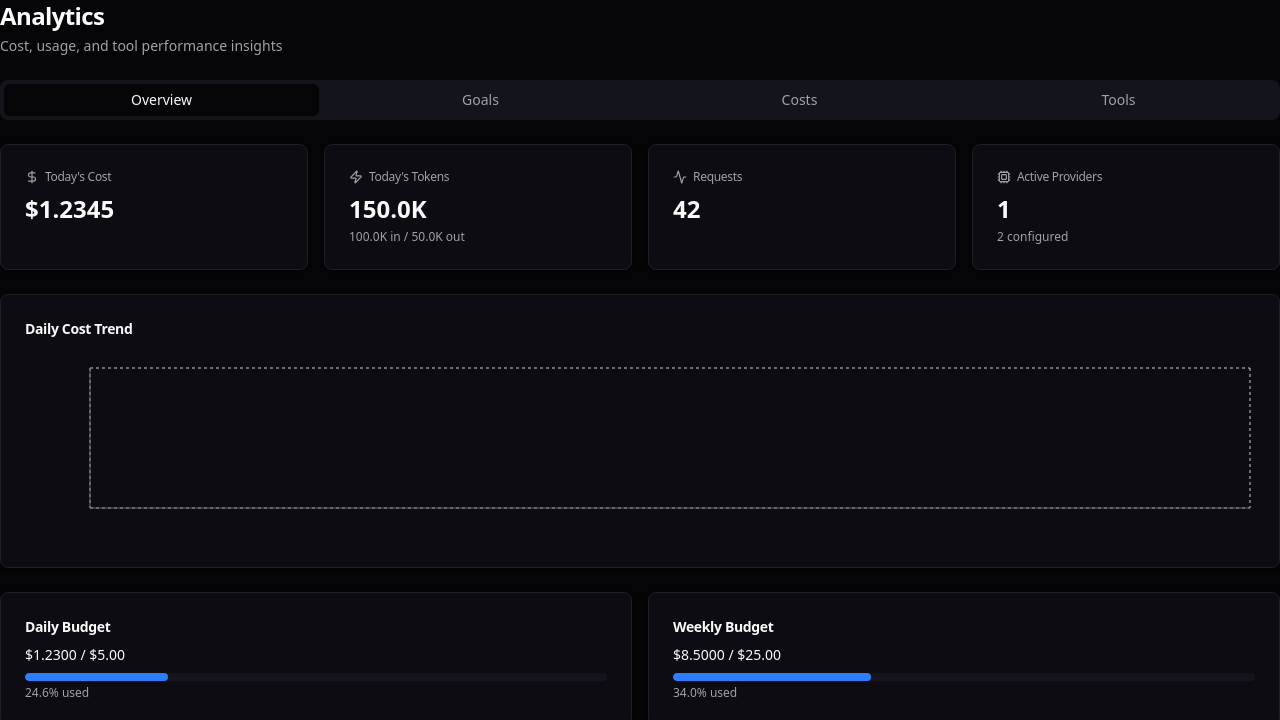
AnalyticsPage › shows empty state when no tool data
Step 1. Click the button "Tools" → (1118, 100), box top-left (961, 84), bottom-right (1276, 116)
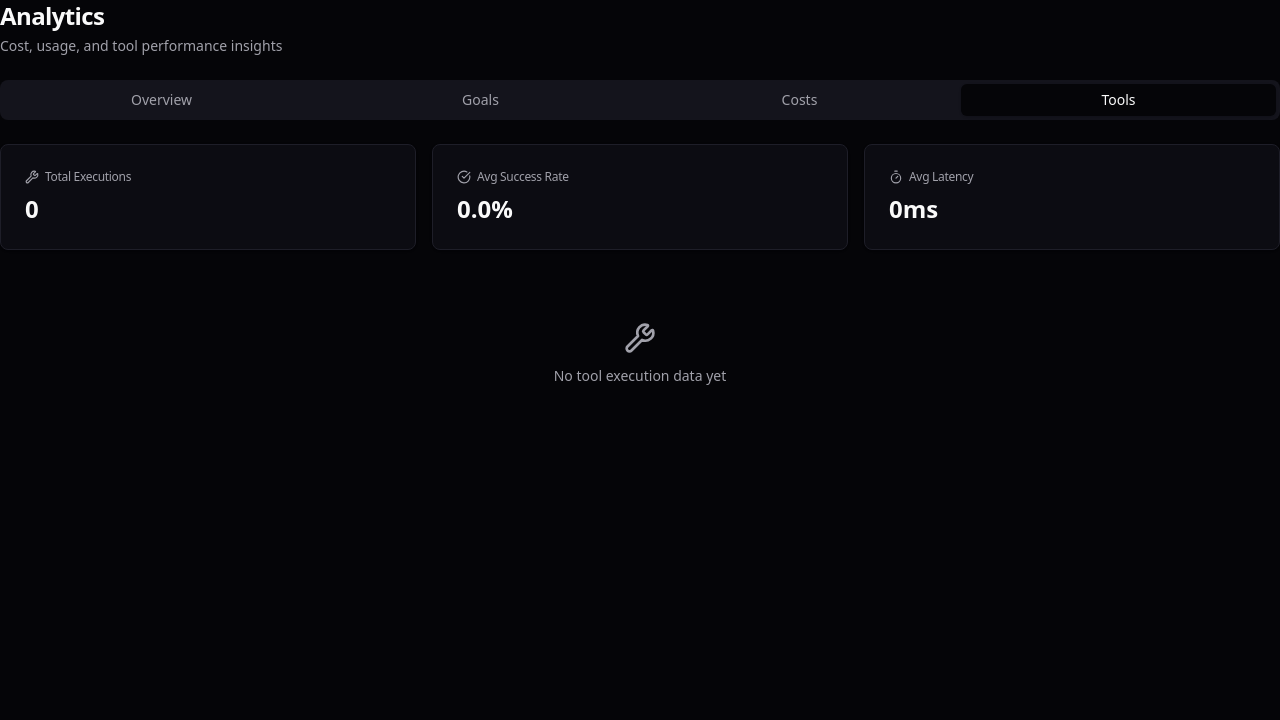
Now the text "No tool execution data yet" is shown, box top-left (554, 366), bottom-right (726, 386)
